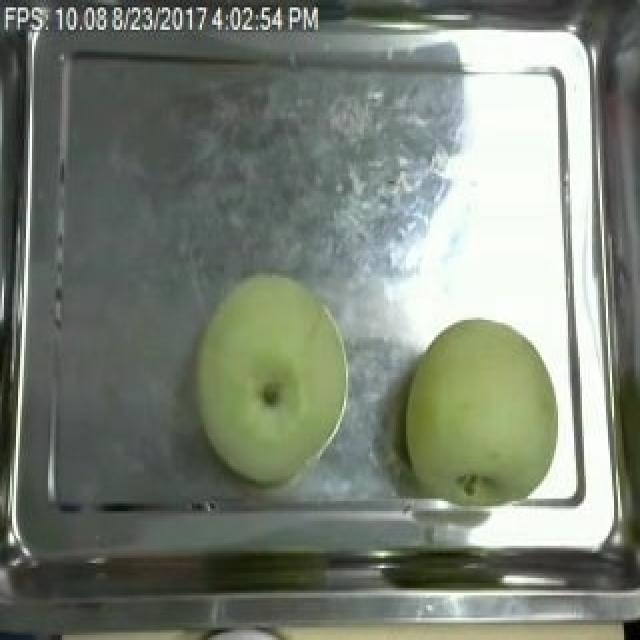Healty Apple: (194, 273, 350, 484), (404, 319, 560, 507)
